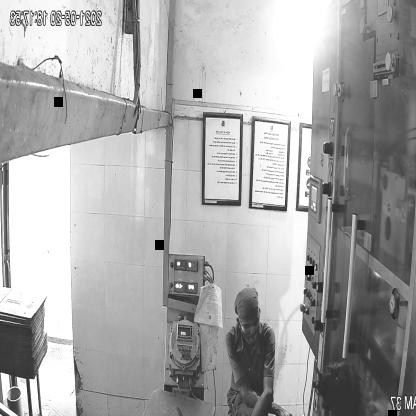goggles: (236, 310, 263, 340)
